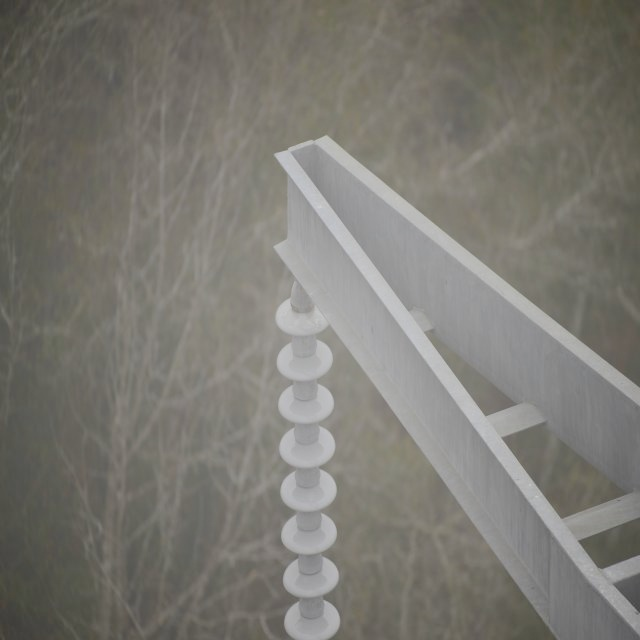insulator: (273, 298, 343, 639)
